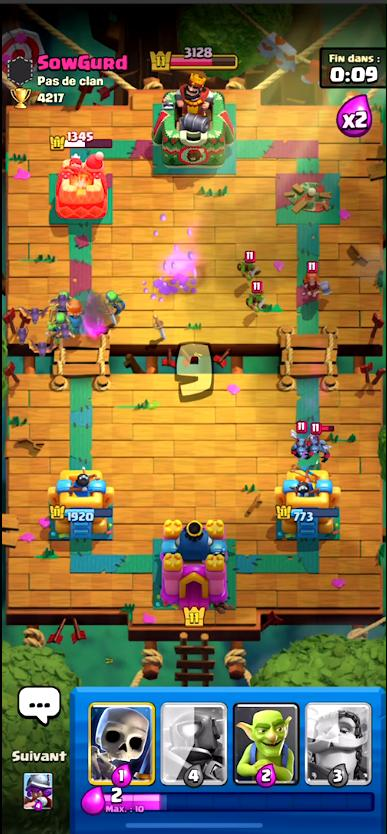bat: (18, 305, 50, 323), (50, 319, 73, 341), (14, 324, 33, 349), (52, 295, 75, 309)
gargouille: (310, 423, 332, 462), (292, 420, 307, 457)
gobelin: (238, 251, 259, 281), (245, 282, 267, 309)
gobelin_lances: (105, 289, 123, 315), (51, 312, 68, 328)
valkyrie: (300, 263, 335, 306), (66, 299, 85, 333)
